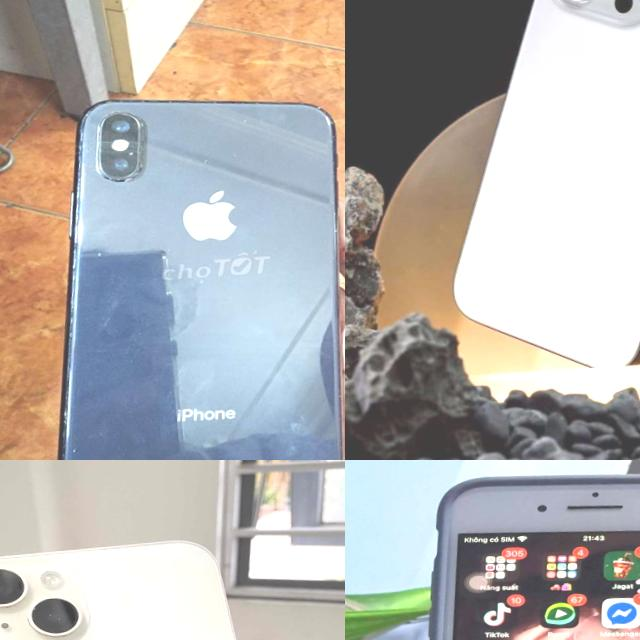scratch: (62, 111, 92, 232), (176, 148, 228, 176), (72, 242, 118, 271), (304, 101, 337, 132), (53, 406, 82, 431), (228, 106, 252, 130), (66, 300, 78, 346), (54, 436, 75, 460), (132, 115, 152, 136), (148, 247, 170, 265), (65, 442, 84, 460), (160, 288, 181, 304), (329, 226, 342, 239), (134, 162, 146, 172)
